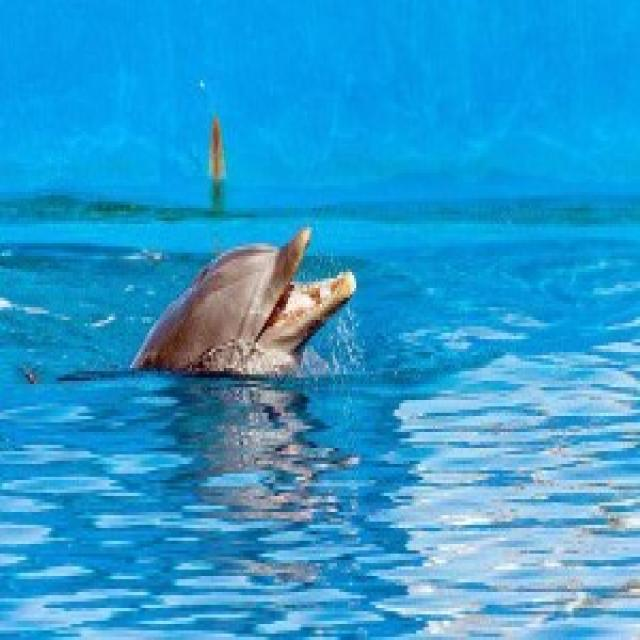Dolphin: (128, 208, 368, 420)
